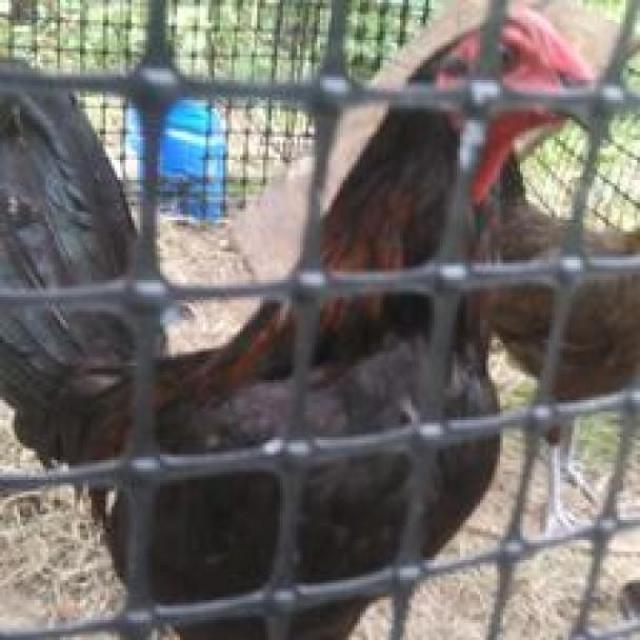Chicken: (20, 29, 628, 606)
